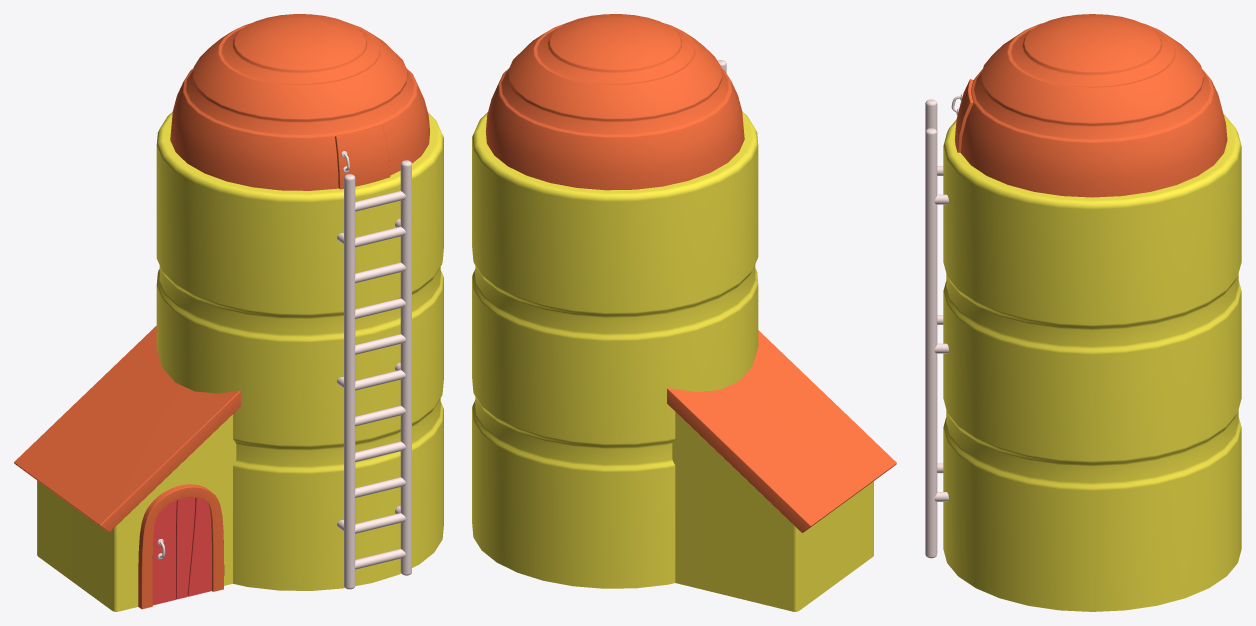
File: Farm_19_Farm_Silo_1.glb
3 views of the same model, side by side, from view 1: azimuth 30°, elevation 25°; view 2: azimuth 150°, elevation 25°; view 3: azimuth 270°, elevation 25° (orthographic). The views are drawn at different scales.
Parts seen in each view (by area): view 1: Farm_19_Farm_Silo_1; view 2: Farm_19_Farm_Silo_1; view 3: Farm_19_Farm_Silo_1.
Part boxes in pixels (left/top/right/bottom): Farm_19_Farm_Silo_1: left=14, top=14, right=443, bottom=611; Farm_19_Farm_Silo_1: left=472, top=14, right=896, bottom=611; Farm_19_Farm_Silo_1: left=925, top=14, right=1241, bottom=611.
Bounding box in the file's own units: 6.96 × 9.08 × 5.03.
1 material, 1 textured.
